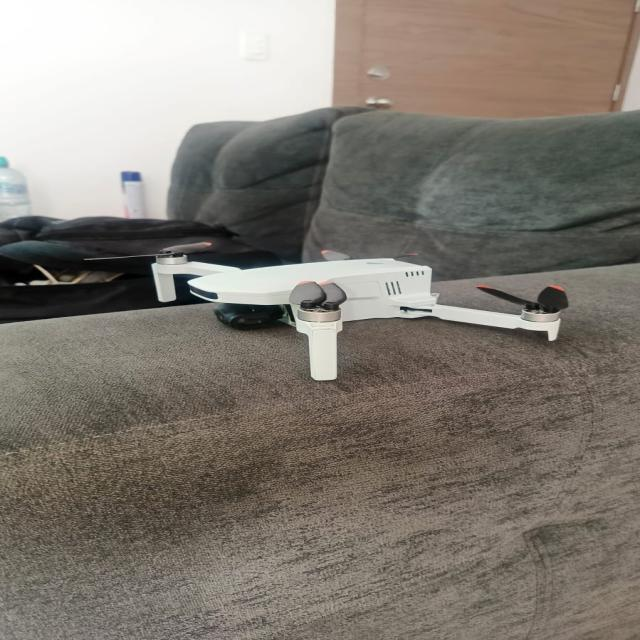dron: (88, 235, 594, 392)
